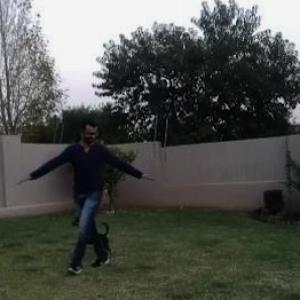land: (41, 122, 156, 256)
